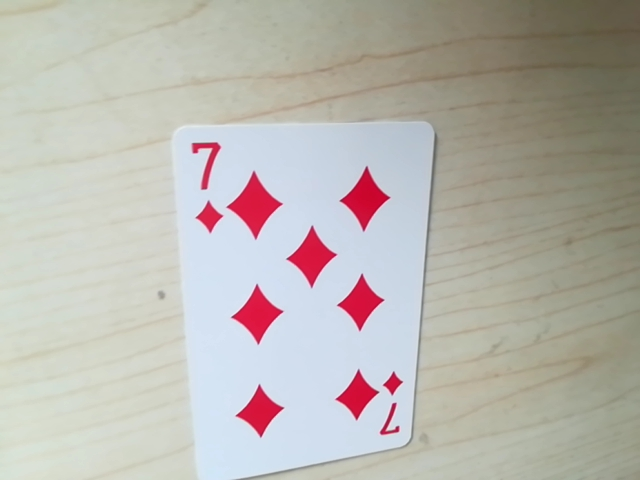fk 7: (180, 128, 228, 173), (369, 396, 407, 445)
